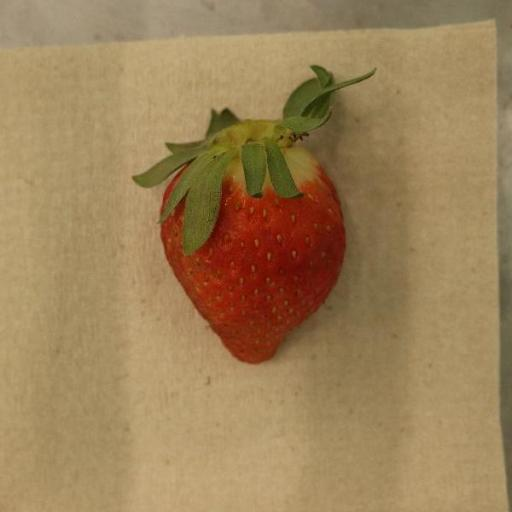Strawberry: (131, 66, 371, 366)
